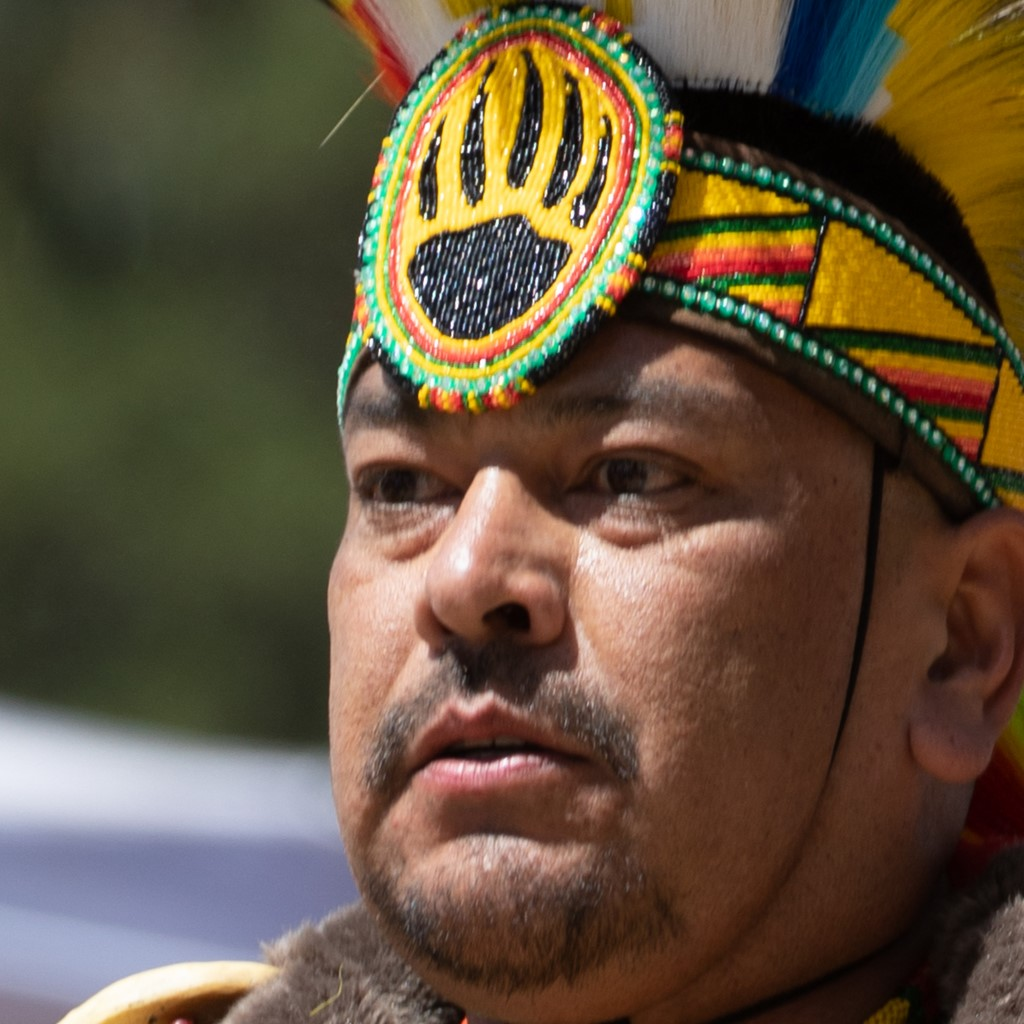sin_mascara: (297, 218, 957, 980)
